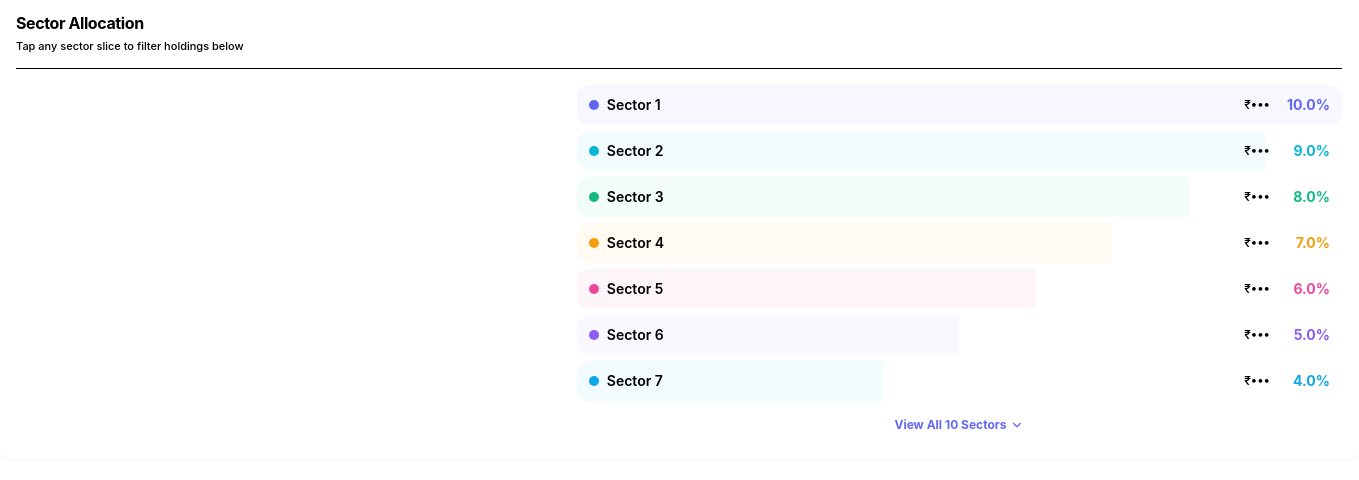
Scenario: SectorDonutChart › toggles View All Sectors when more than 7 sectors exist
The image size is (1359, 480).
Expected: the text "Sector 1" is shown, x1=607 y1=95 x2=661 y2=115
Expected: the text "Sector 7" is shown, x1=607 y1=371 x2=663 y2=391
Note: Click toggle to expand
Click the button "View All 10 Sectors": (959, 425) x1=880 y1=411 x2=1038 y2=439
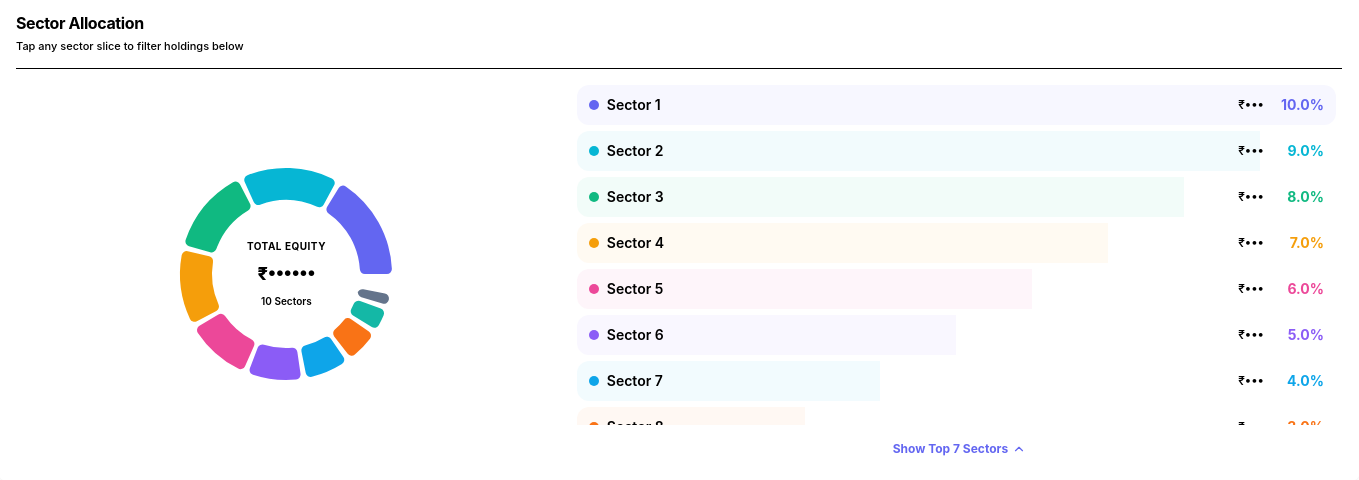
Result: the button with aria-label "Collapse to top 7 sectors" is shown at x1=879 y1=435 x2=1040 y2=463
